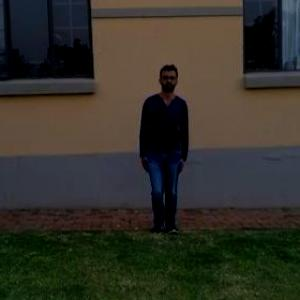follow: (137, 62, 191, 235)
